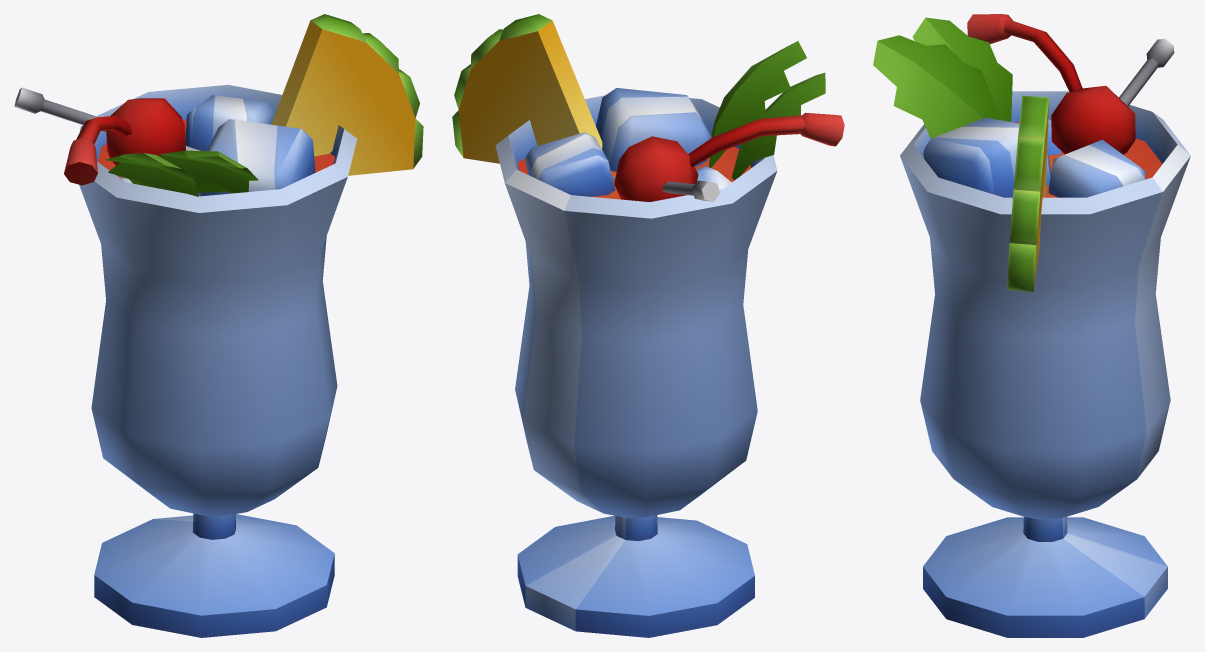
Rendered from m_MaiTai01.fbx.
The picture shows the model from 3 angles, left to right: view 1: azimuth 30°, elevation 25°; view 2: azimuth 150°, elevation 25°; view 3: azimuth 270°, elevation 25°; orthographic projection.
Parts seen in each view (by area): view 1: m_MaiTai01; view 2: m_MaiTai01; view 3: m_MaiTai01.
Boxes of the visible parts, x1,y1,x2,y2 form: m_MaiTai01: [14, 14, 423, 637]; m_MaiTai01: [452, 14, 844, 637]; m_MaiTai01: [873, 14, 1190, 637].
Bounding box in the file's own units: 17.5 × 24.51 × 12.98.
